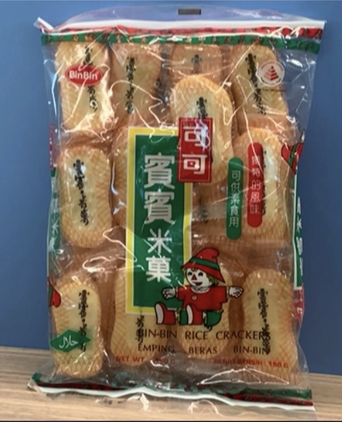crackers_150g: (53, 47, 291, 369)
